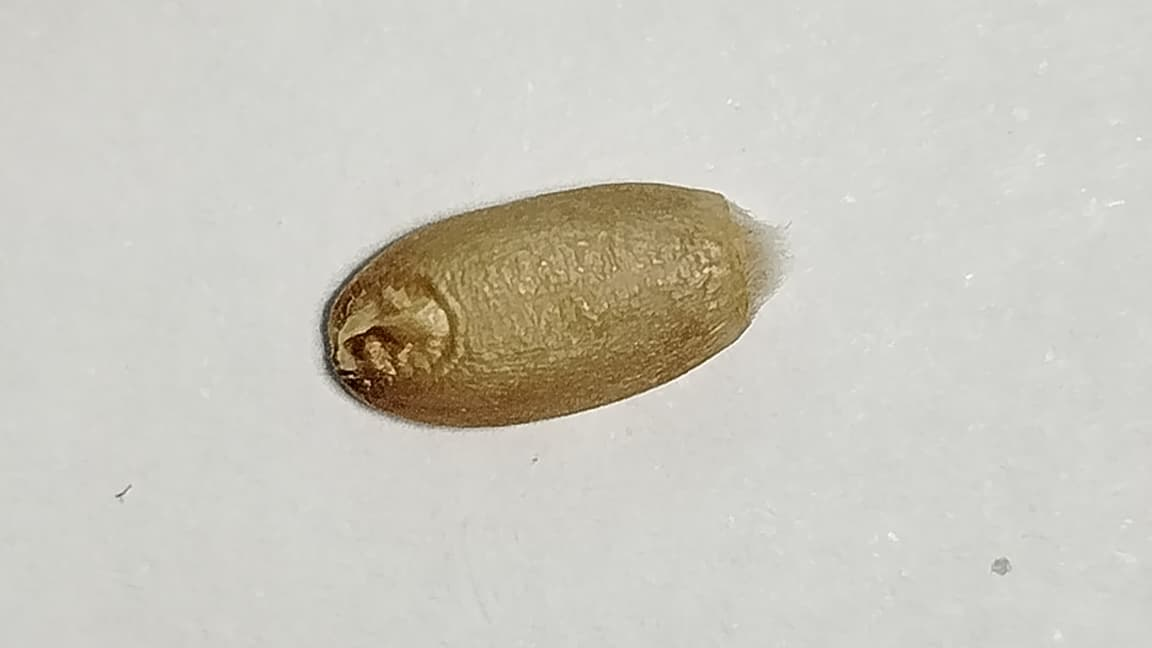healthy: (327, 182, 780, 426)
